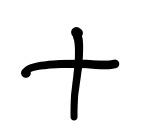plus: (21, 27, 120, 120)
